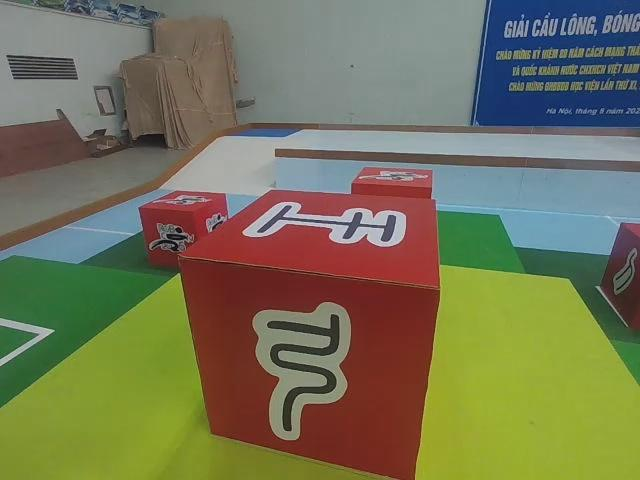R1: (135, 184, 232, 277)
R2 Fake: (175, 187, 445, 480)
R2 Real: (597, 217, 640, 335)
